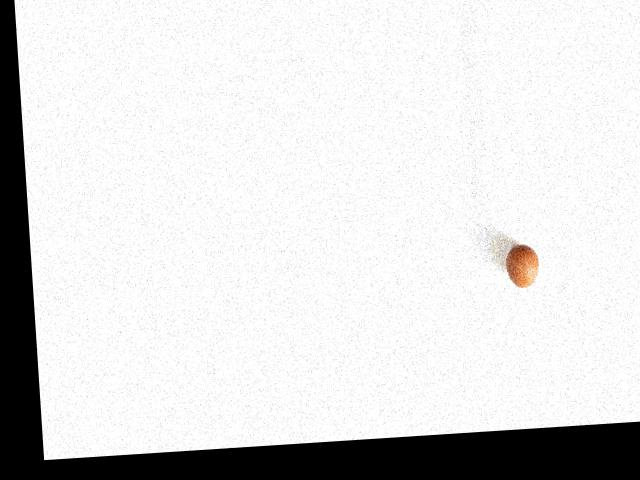egg: (505, 243, 540, 288)
